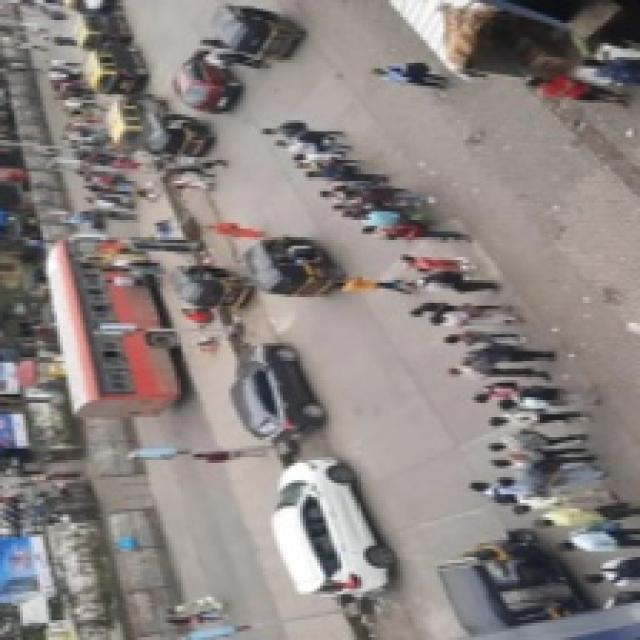car: (270, 455, 394, 601), (232, 343, 325, 445), (175, 49, 246, 117)
